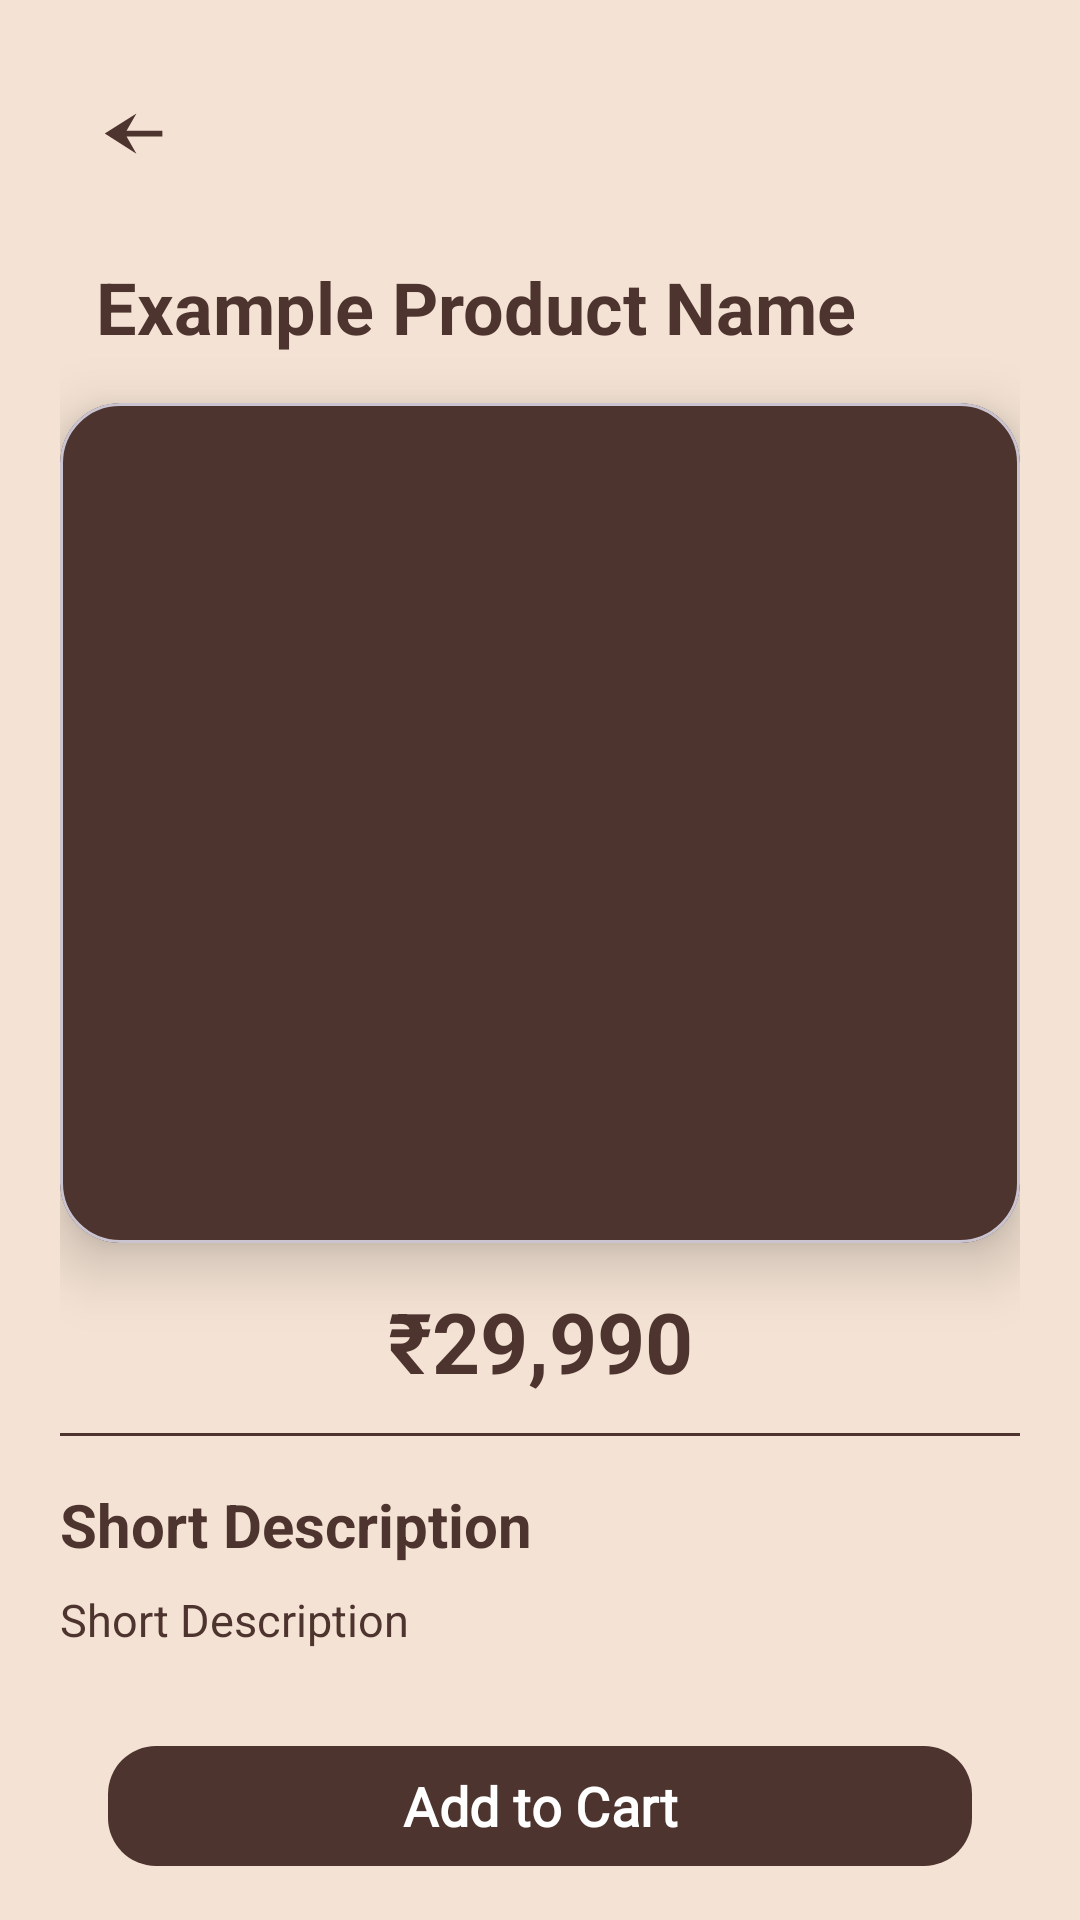

Locate icon controls on the screen. Image size 1080px×1920px, boxes as (x1, y1, x2, y2).
Back Button: (105, 114, 163, 154)
